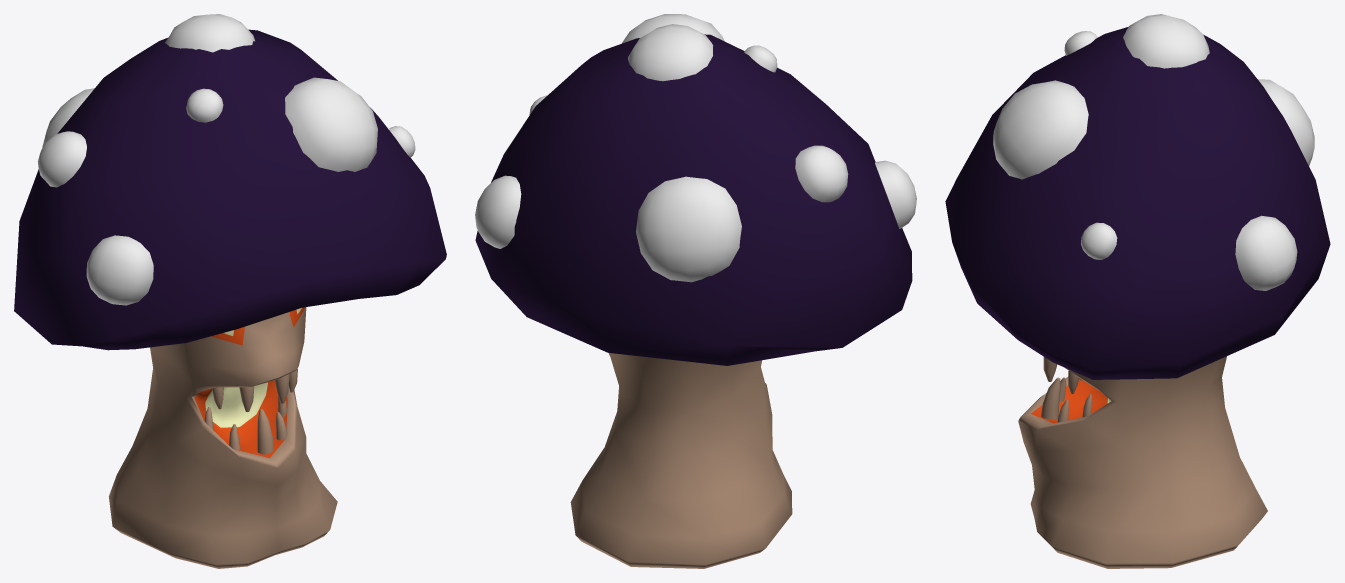
File: evil mushroom.fbx
3 views of the same model, side by side, from view 1: azimuth 30°, elevation 25°; view 2: azimuth 150°, elevation 25°; view 3: azimuth 270°, elevation 25° (orthographic).
Parts seen in each view (by area): view 1: evil_mushroom; view 2: evil_mushroom; view 3: evil_mushroom.
Boxes of the visible parts, left/top/right/bottom form: evil_mushroom: left=14, top=14, right=446, bottom=568; evil_mushroom: left=475, top=14, right=916, bottom=568; evil_mushroom: left=945, top=14, right=1330, bottom=568.
Bounding box in the file's own units: 1.27 × 1.56 × 1.08.
